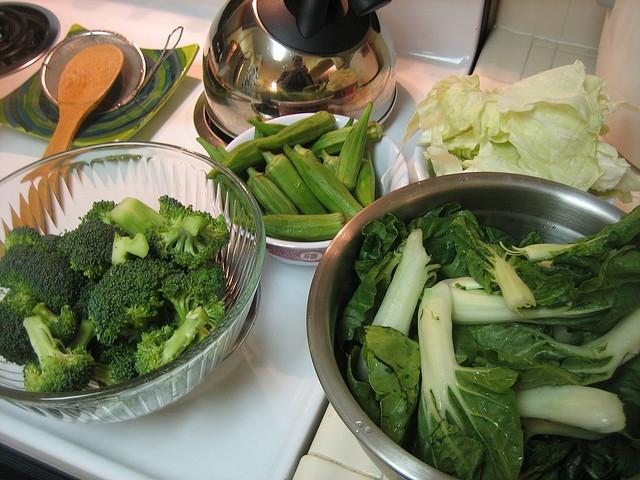broccoli: (86, 254, 185, 345), (144, 196, 230, 270), (132, 304, 208, 378), (23, 316, 96, 393), (0, 242, 75, 307), (56, 220, 124, 271), (0, 289, 41, 366), (157, 270, 205, 322), (110, 196, 166, 240), (31, 303, 76, 344), (188, 263, 227, 302), (112, 230, 148, 265), (1, 225, 42, 254), (92, 358, 134, 386), (71, 279, 98, 319), (82, 200, 120, 225), (203, 294, 226, 328)
